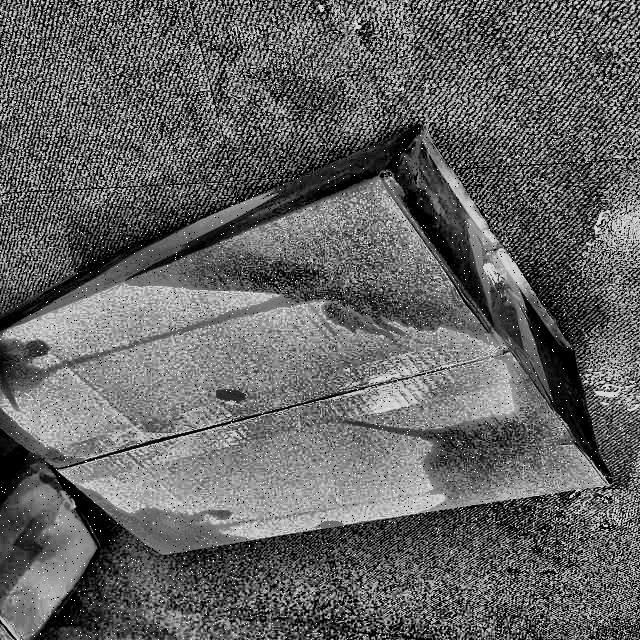box: (1, 119, 615, 561)
wet: (159, 151, 493, 349), (398, 375, 620, 531), (100, 495, 239, 571)
